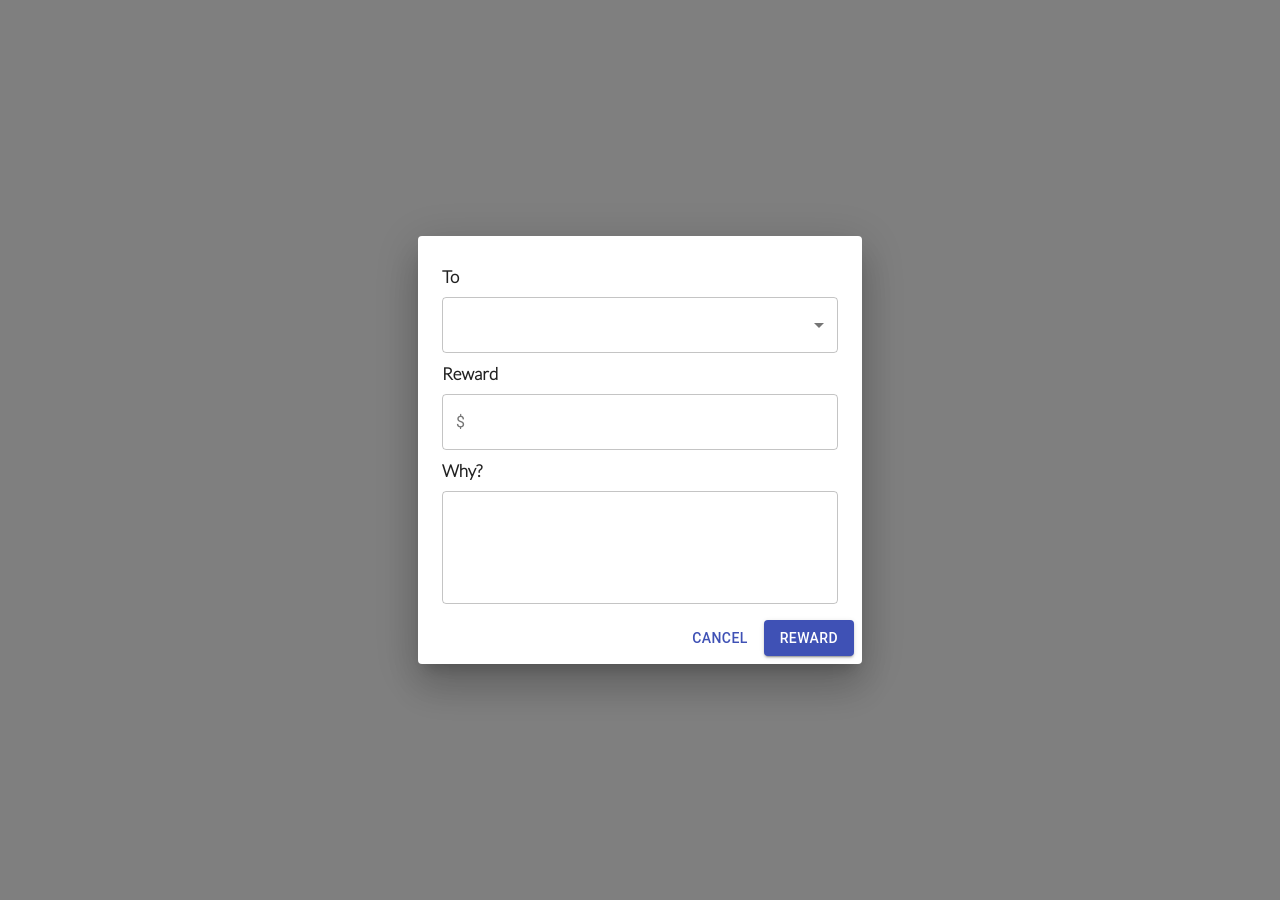
Test: display error under reward input
In the number field with test id "reward-input": [656, 422] box [473,394,838,450], type "330"
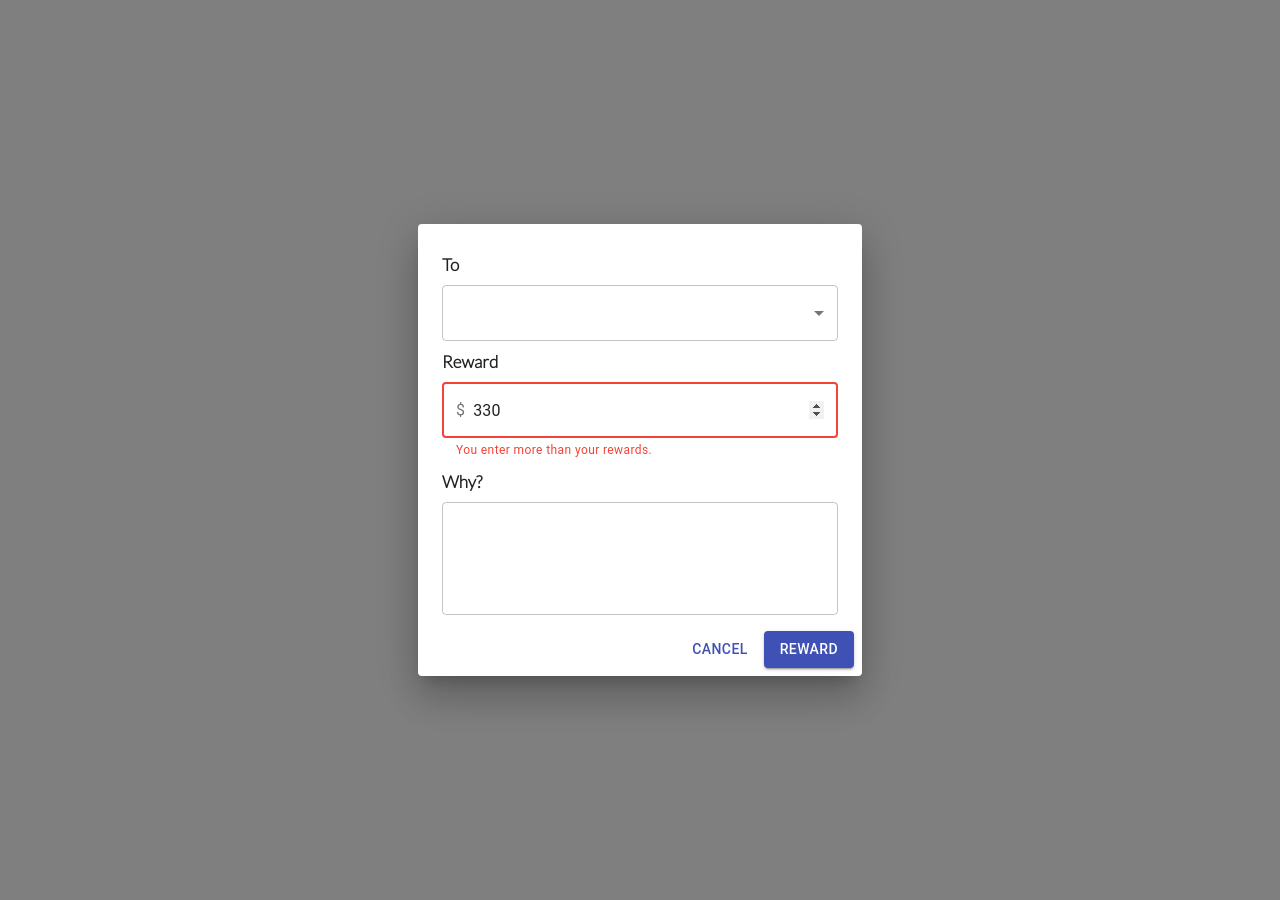
Now the text "You enter more than your rewards." is shown, box [456,443,652,457]
